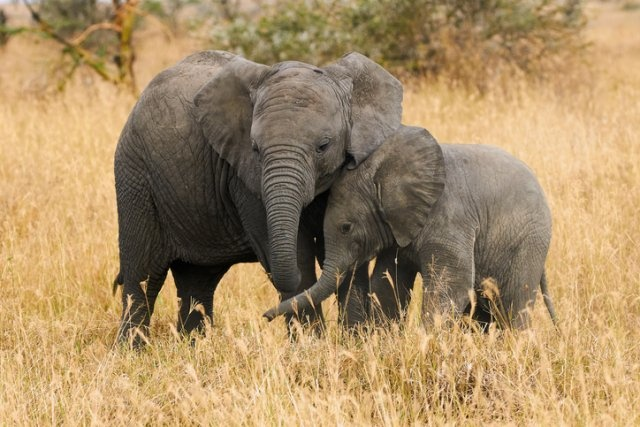elephant: (111, 45, 405, 349), (262, 121, 553, 338)
